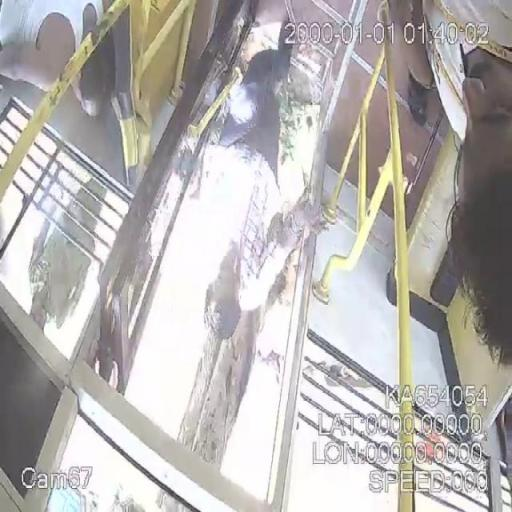persona: (189, 22, 327, 343), (420, 0, 512, 367)
